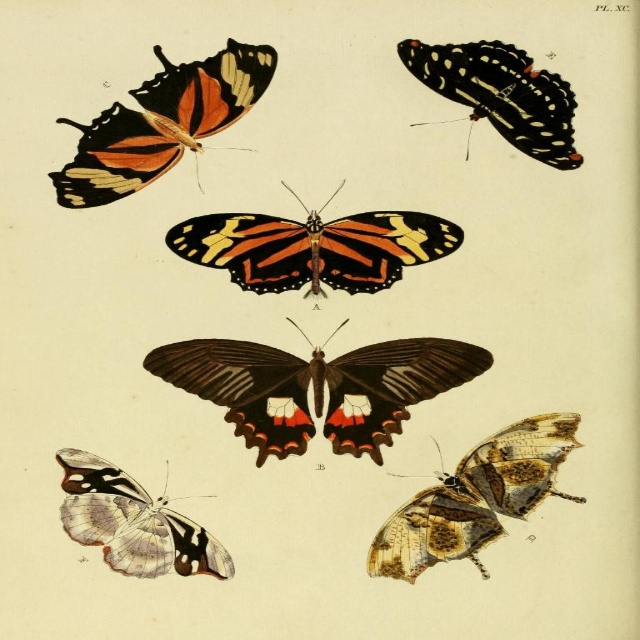Butterfly: (140, 308, 496, 473), (40, 34, 278, 215), (354, 413, 590, 582), (155, 180, 466, 298), (381, 27, 594, 174), (60, 441, 233, 579)
